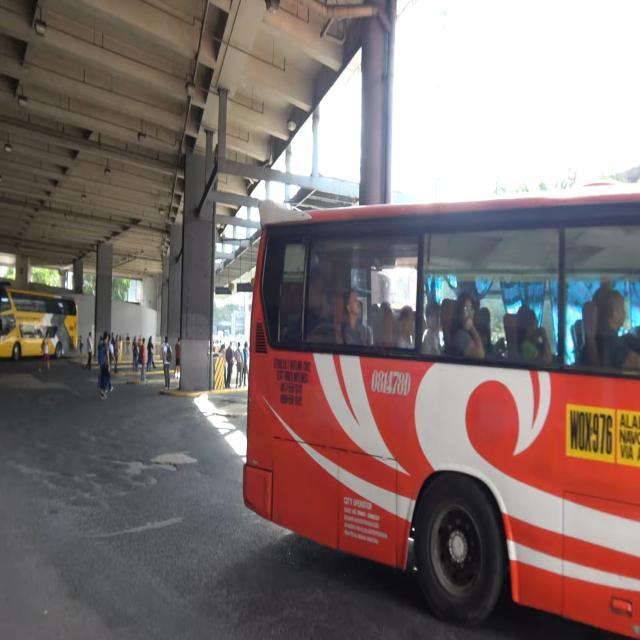bus: (240, 184, 640, 640), (0, 278, 78, 362)
